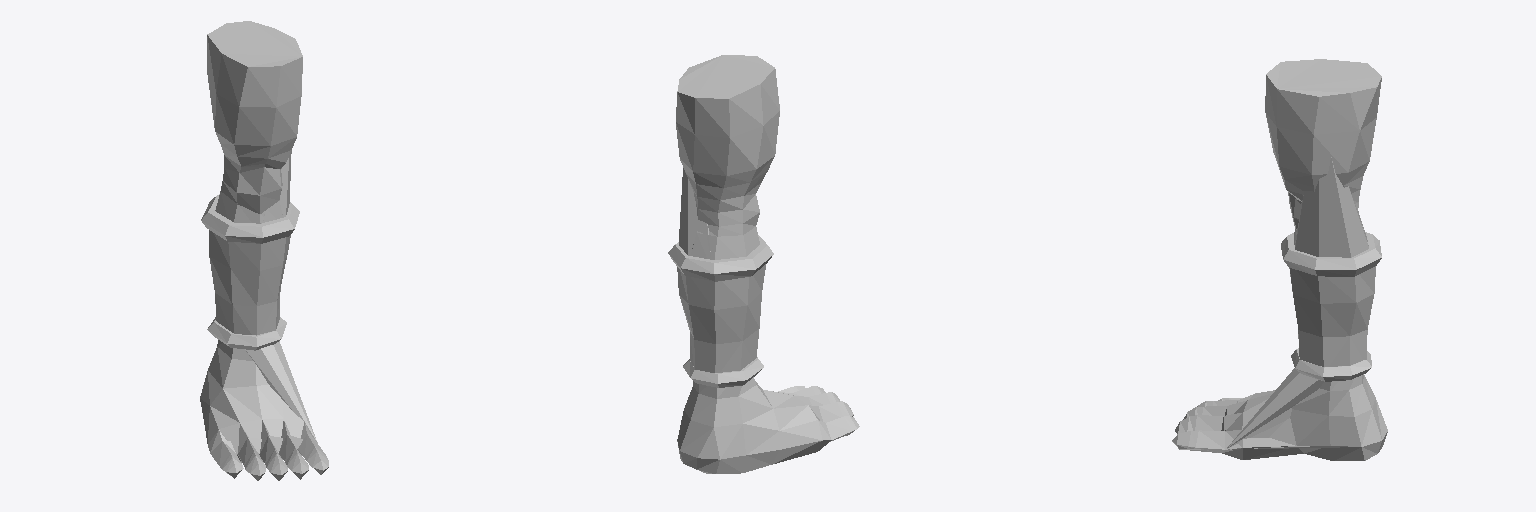
Rendered from right_leg-8_asuramon.blend.obj.
3 renders of one model, left to right at view 1: azimuth 30°, elevation 25°; view 2: azimuth 150°, elevation 25°; view 3: azimuth 270°, elevation 25°, orthographic.
Visible parts, largest first — view 1: right_leg-8_asuramon.blend_Mesh; view 2: right_leg-8_asuramon.blend_Mesh; view 3: right_leg-8_asuramon.blend_Mesh.
Boxes of the visible parts, box(x1,y1,x2,y2) form: right_leg-8_asuramon.blend_Mesh: box(200, 21, 328, 480); right_leg-8_asuramon.blend_Mesh: box(668, 55, 859, 473); right_leg-8_asuramon.blend_Mesh: box(1172, 59, 1387, 460).
Bounding box in the file's own units: 0.8403 × 2.47 × 1.27.